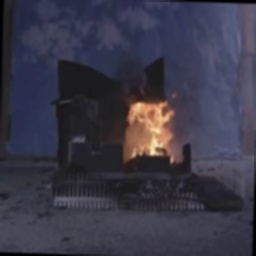fire: (117, 85, 180, 166)
